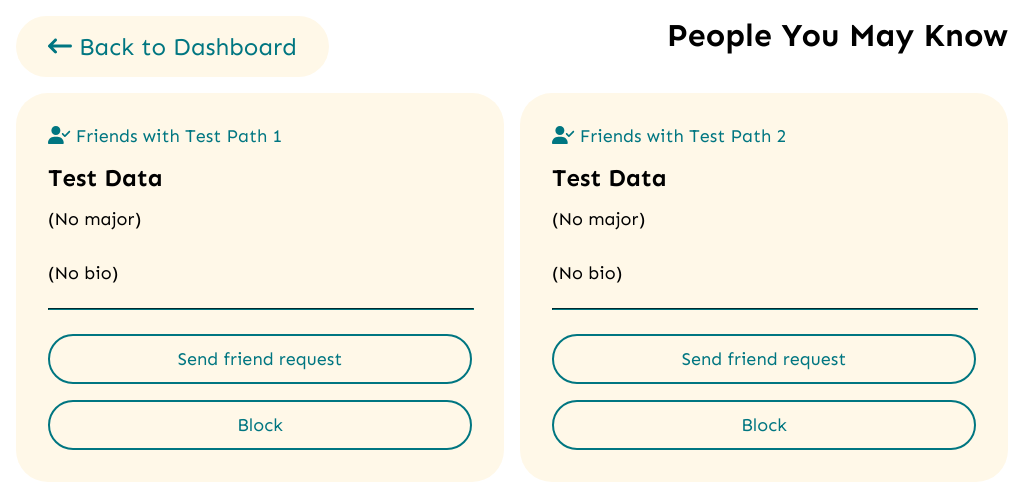
Test: People page › tries to send a friend request
Click the button "Send friend request" below "Test Path 1" at point(260, 359), box [48, 334, 472, 384]
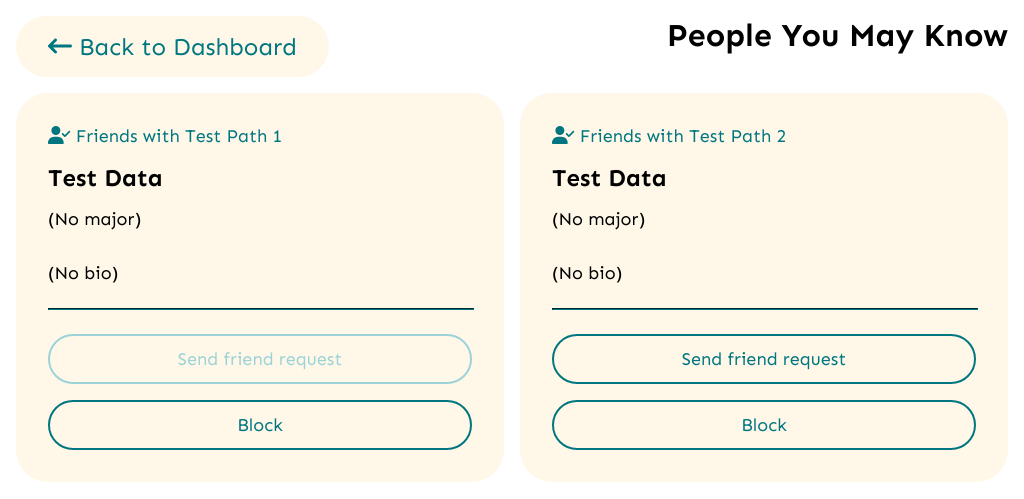
Now the button "Send friend request" below "Test Path 1" is disabled, box [48, 334, 472, 384]
